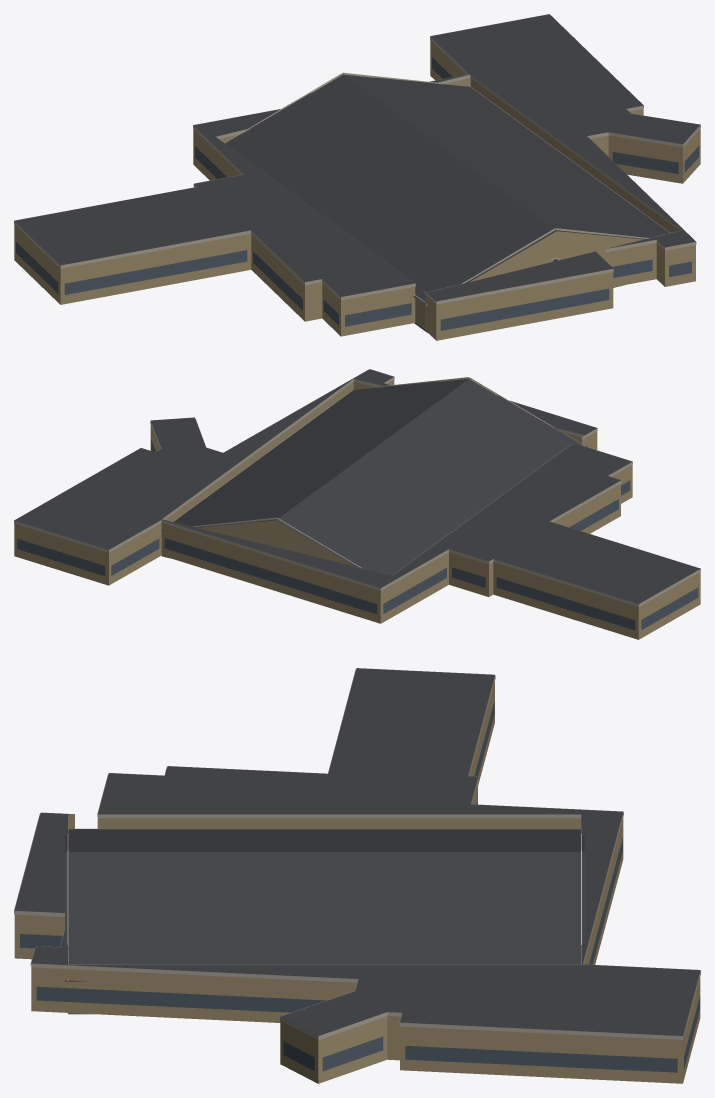
The model's file is life-line-baptist.glb.
The picture shows the model from 3 angles, top to bottom: view 1: azimuth 30°, elevation 25°; view 2: azimuth 150°, elevation 25°; view 3: azimuth 270°, elevation 25°; orthographic projection. The views are drawn at different scales.
Parts seen in each view (by area): view 1: life_line_baptist; view 2: life_line_baptist; view 3: life_line_baptist.
Part boxes in pixels (bbox=[...]): life_line_baptist: bbox=[14, 14, 700, 340]; life_line_baptist: bbox=[14, 369, 700, 639]; life_line_baptist: bbox=[14, 668, 700, 1083].
Bounding box in the file's own units: 96.94 × 11.02 × 76.41.
